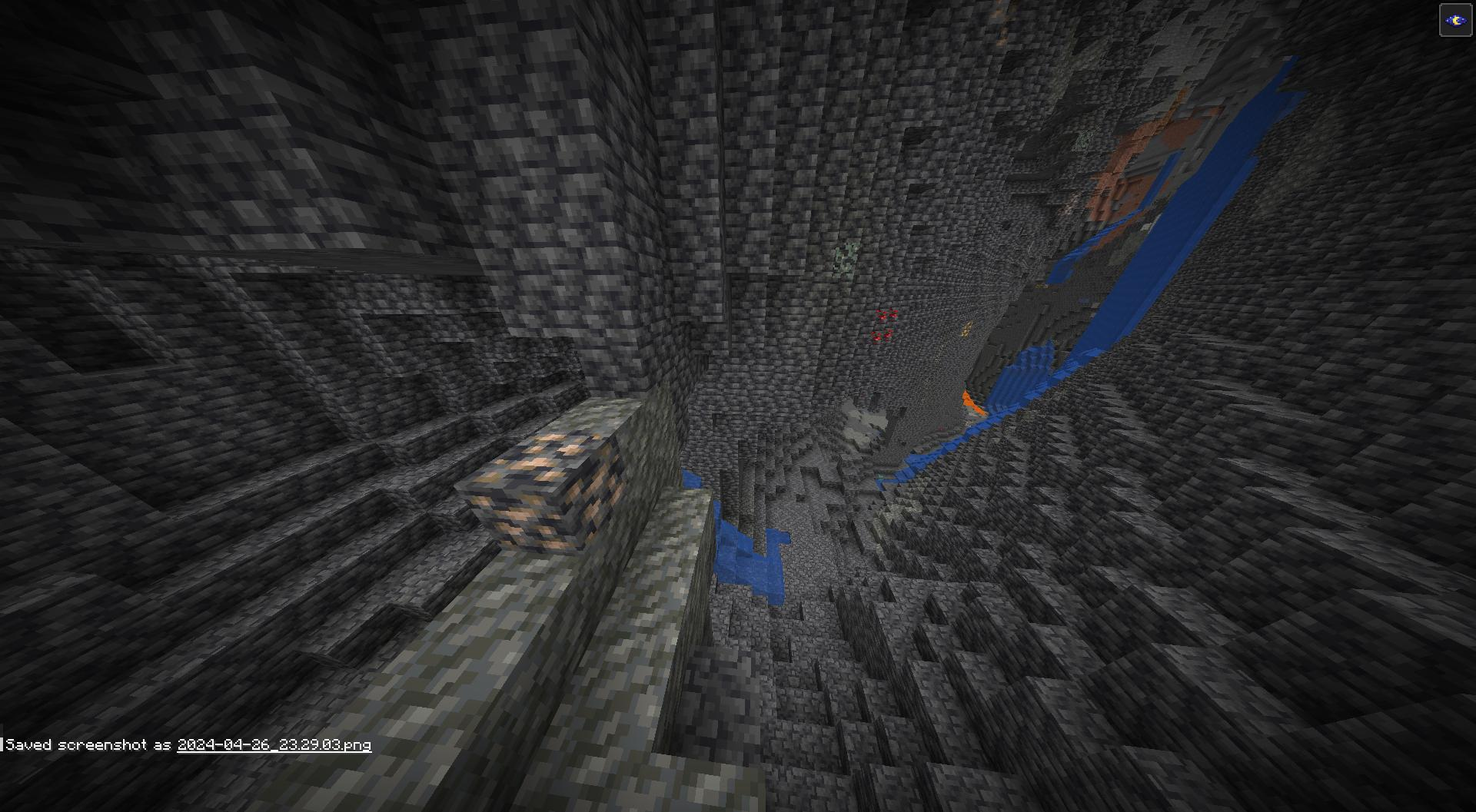gold ore: (958, 318, 979, 338)
iron ore: (477, 433, 619, 541), (1060, 190, 1082, 218)
redstone ore: (871, 302, 906, 345)
